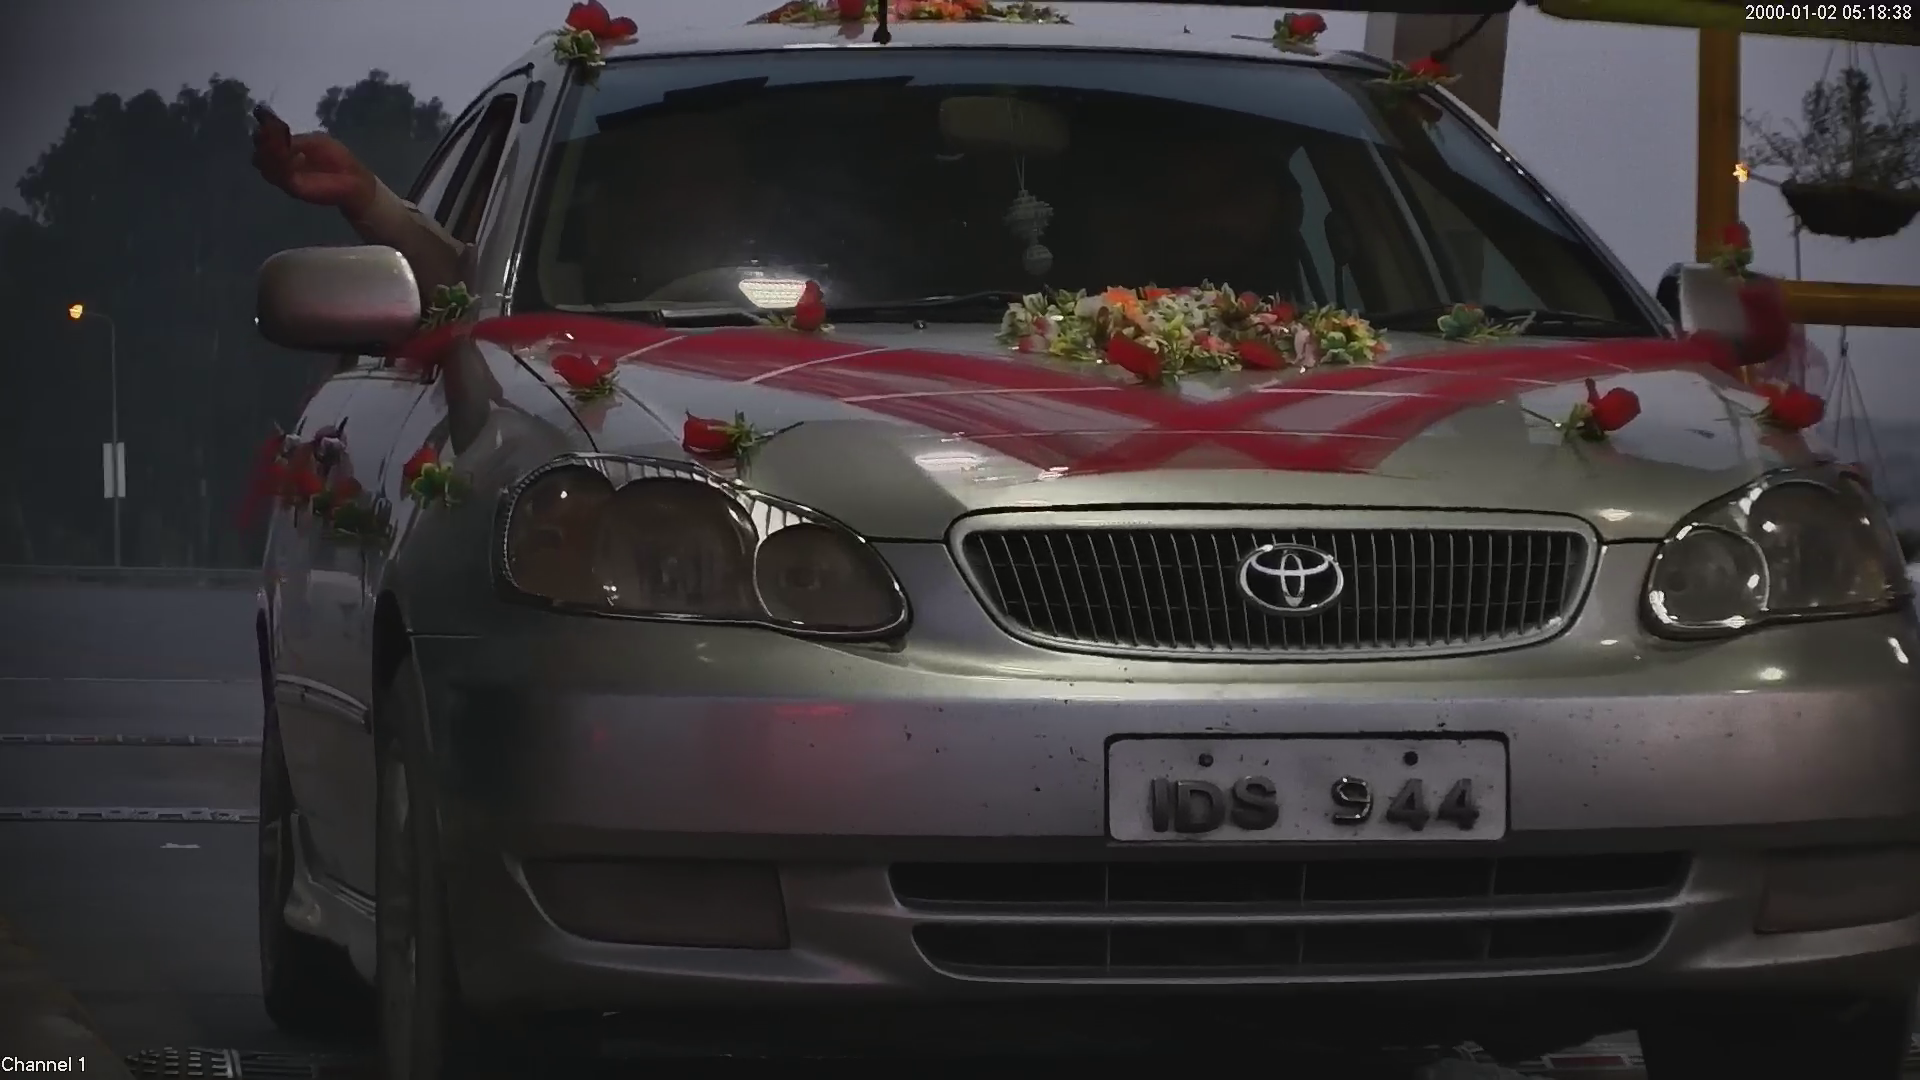Number_Plate: (1096, 721, 1524, 858)
